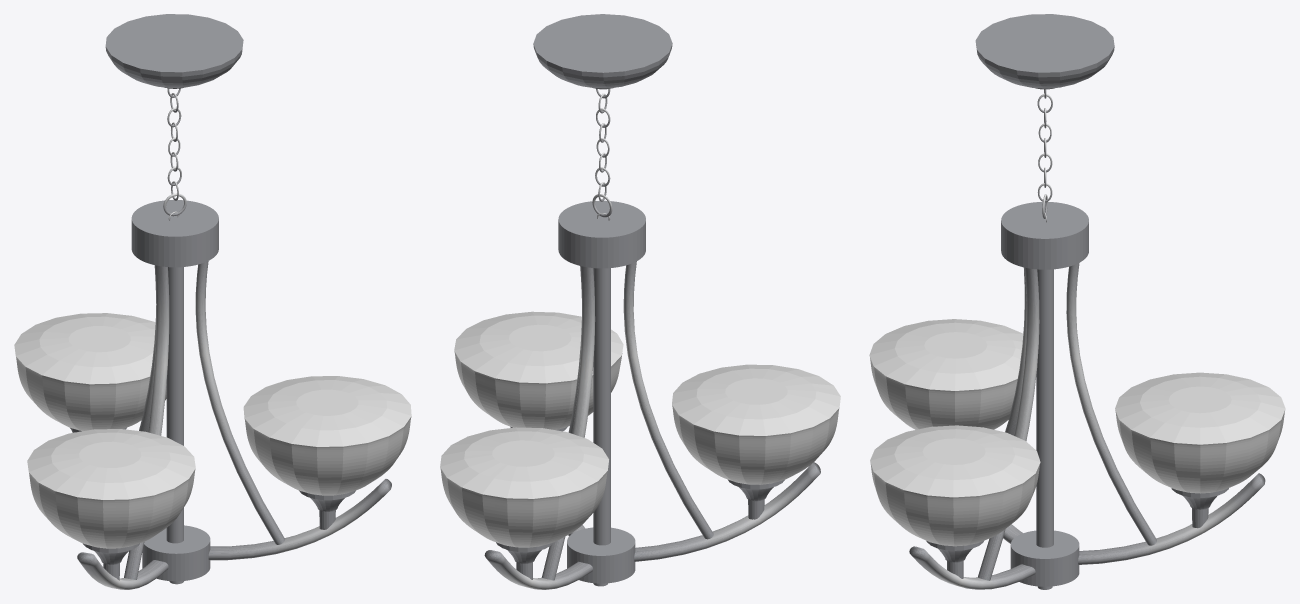
File: Candelabro.glb
3 renders of one model, left to right at view 1: azimuth 30°, elevation 25°; view 2: azimuth 150°, elevation 25°; view 3: azimuth 270°, elevation 25°, orthographic.
Visible parts, largest first — view 1: BezierCircle.011; view 2: BezierCircle.011; view 3: BezierCircle.011.
Part boxes in pixels (x1,y1,x2,y2): BezierCircle.011: [14, 14, 411, 589]; BezierCircle.011: [440, 14, 840, 589]; BezierCircle.011: [869, 14, 1285, 589].
Bounding box in the file's own units: 2.58 × 3.66 × 2.54.
2 materials, 2 textured.
